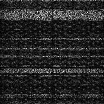lte: (1, 8, 104, 20), (1, 67, 104, 73), (1, 37, 104, 41), (1, 46, 104, 50), (1, 54, 104, 58)
